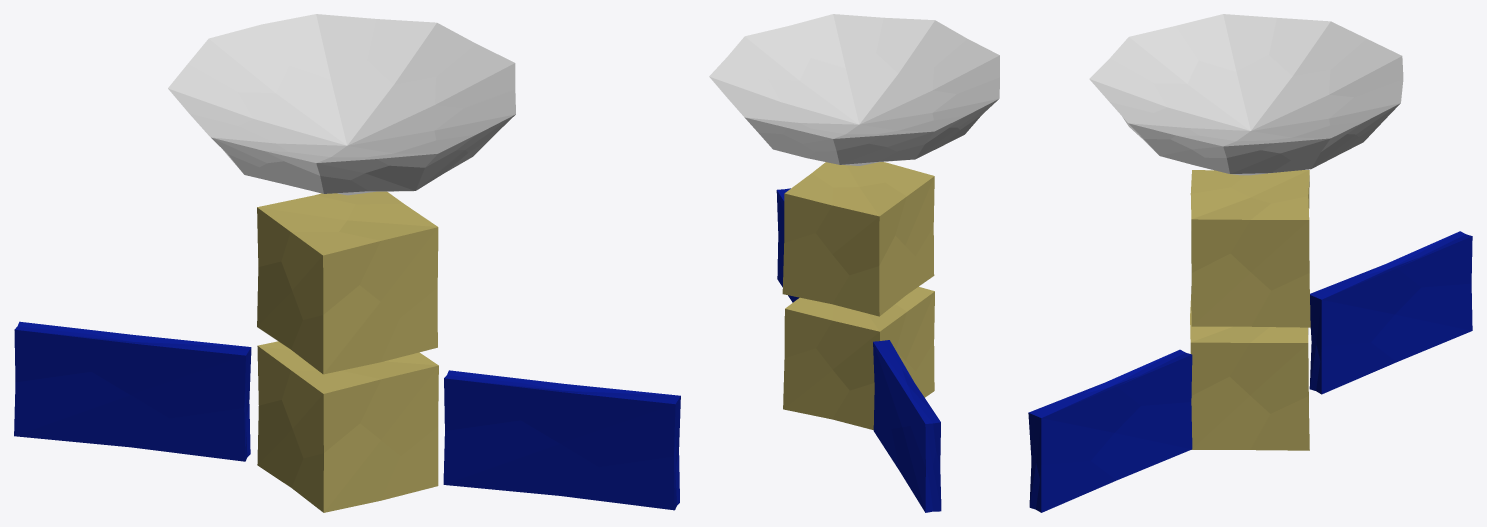
Rendered from SatelliteJunk.gltf.
The picture shows the model from 3 angles, left to right: view 1: azimuth 30°, elevation 25°; view 2: azimuth 150°, elevation 25°; view 3: azimuth 270°, elevation 25°; orthographic projection. The views are drawn at different scales.
Visible parts, largest first — view 1: SatelliteJunk5, SatelliteJunk3, SatelliteJunk1, SatelliteJunk2, SatelliteJunk4; view 2: SatelliteJunk5, SatelliteJunk3, SatelliteJunk4, SatelliteJunk1, SatelliteJunk2; view 3: SatelliteJunk5, SatelliteJunk3, SatelliteJunk2, SatelliteJunk1, SatelliteJunk4.
Boxes of the visible parts, left/top/right/bottom form: SatelliteJunk5: left=168, top=14, right=515, bottom=195; SatelliteJunk3: left=257, top=191, right=438, bottom=374; SatelliteJunk1: left=14, top=321, right=251, bottom=461; SatelliteJunk2: left=443, top=370, right=680, bottom=510; SatelliteJunk4: left=257, top=341, right=438, bottom=512; SatelliteJunk5: left=709, top=14, right=999, bottom=165; SatelliteJunk3: left=782, top=162, right=934, bottom=316; SatelliteJunk4: left=783, top=286, right=934, bottom=429; SatelliteJunk1: left=873, top=340, right=941, bottom=512; SatelliteJunk2: left=776, top=188, right=799, bottom=302; SatelliteJunk5: left=1089, top=14, right=1403, bottom=175; SatelliteJunk3: left=1190, top=170, right=1310, bottom=327; SatelliteJunk2: left=1028, top=349, right=1192, bottom=512; SatelliteJunk1: left=1309, top=231, right=1472, bottom=394; SatelliteJunk4: left=1190, top=294, right=1309, bottom=450.
Size of the model in its own units: 0.8165 by 0.7027 by 0.8159.
